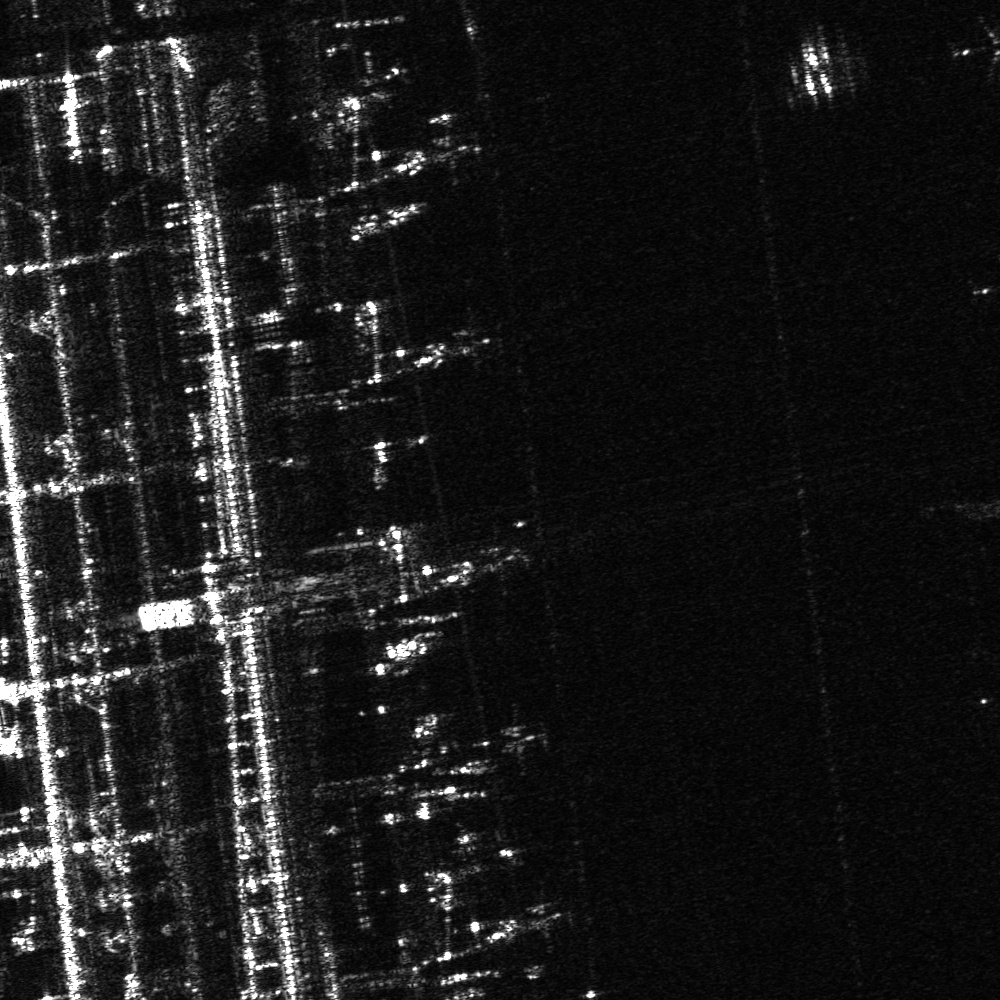Boeing737: (352, 50, 410, 106)
